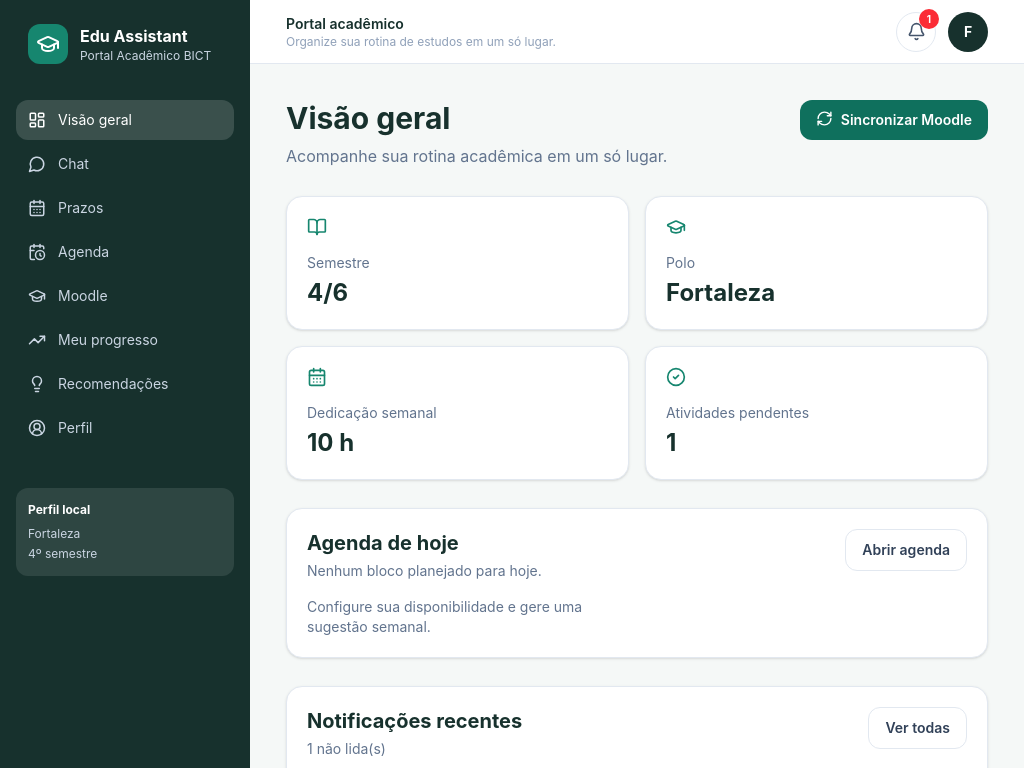
Test: Edu Assistant web › synchronizes Moodle from the dashboard
Click the button named "Abrir notificações".
click(916, 32)  # box [896,12,936,52]
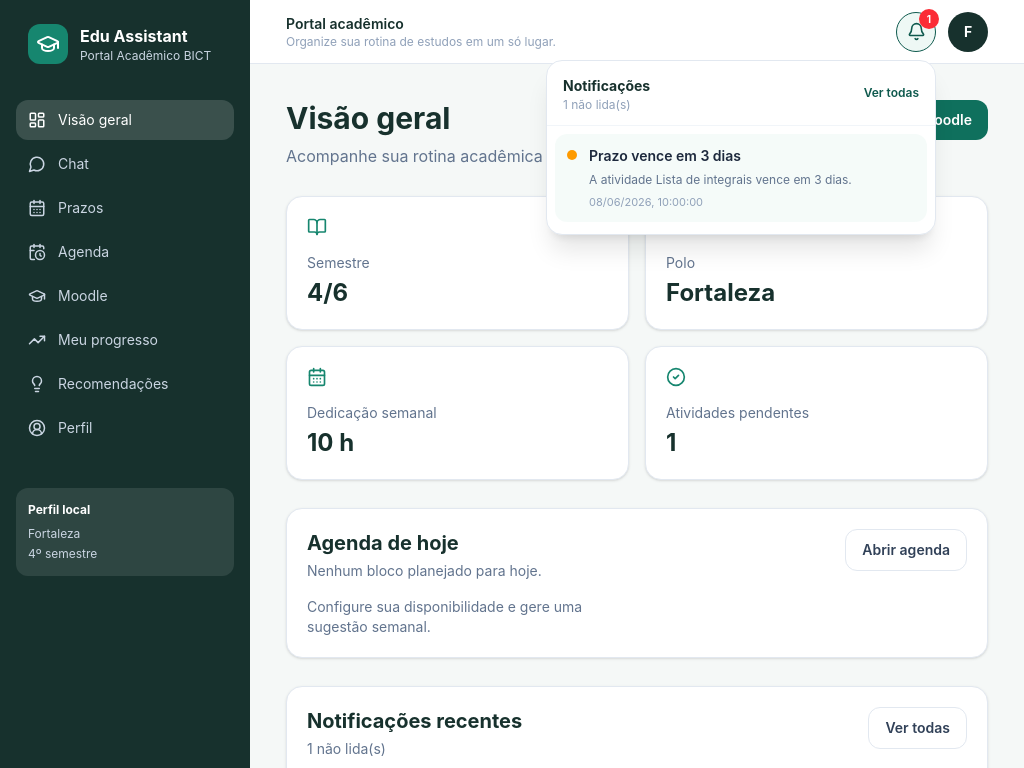
Expected: the link to "/notifications" is shown, [864,84,919,100]
Click the button named "Abrir notificações".
click(916, 32)  # box [896,12,936,52]
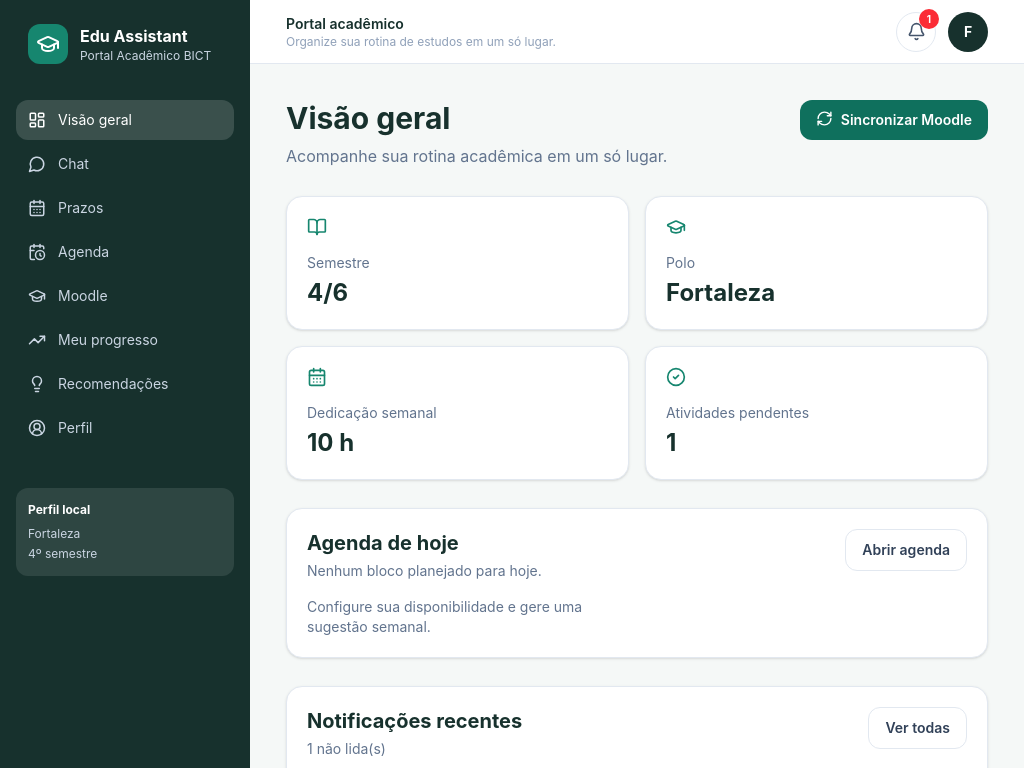
Click the button "Sincronizar Moodle".
click(894, 120)  # box [800,100,988,140]
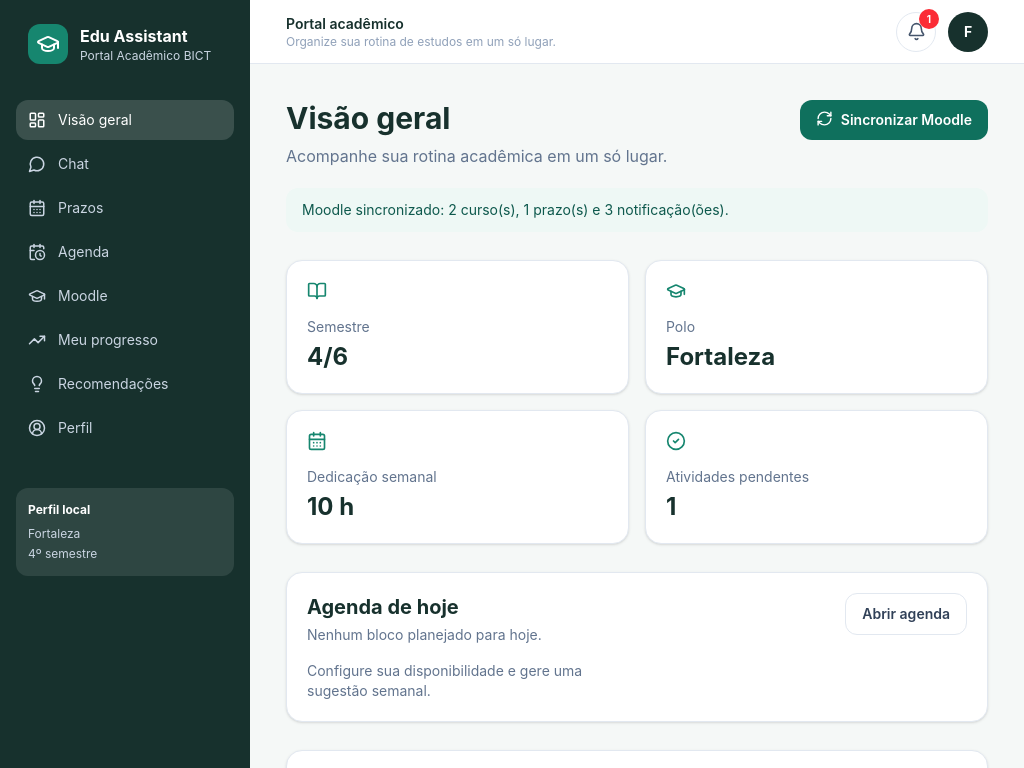
Expected: the text "Moodle sincronizado: 2 curso(s), 1 prazo(s) e 3 notificação(ões)." is shown, [286,188,988,232]
